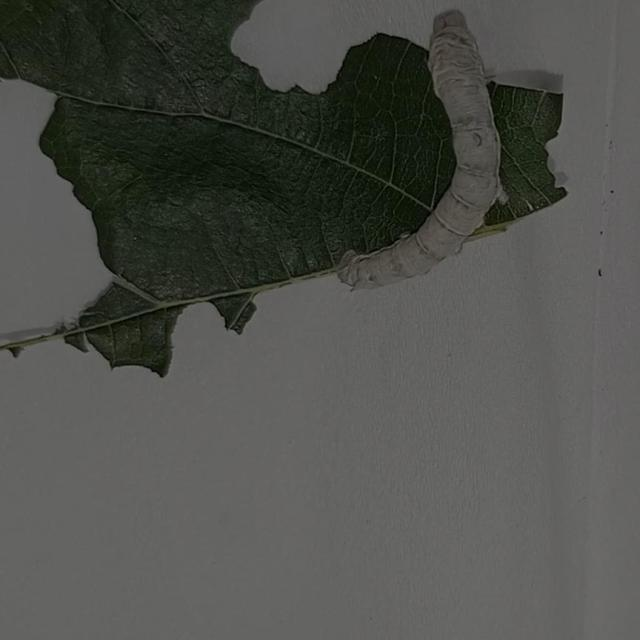Healthy: (323, 5, 573, 317)
